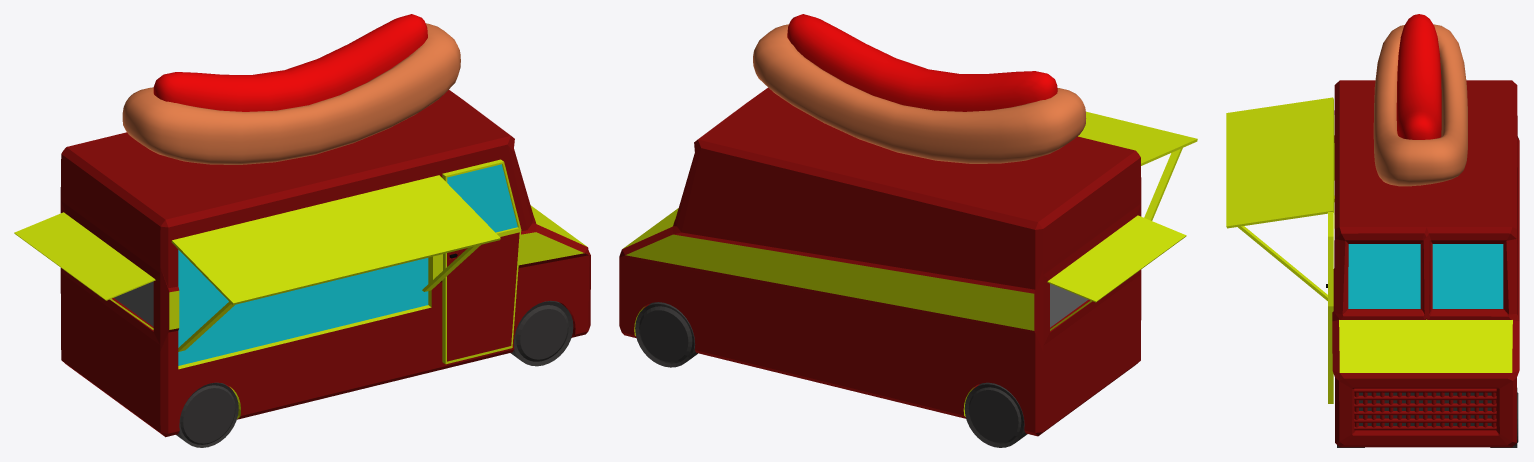
The model's file is FoodTruck_Nvl1.fbx.
3 renders of one model, left to right at view 1: azimuth 30°, elevation 25°; view 2: azimuth 150°, elevation 25°; view 3: azimuth 270°, elevation 25°, orthographic. The views are drawn at different scales.
Visible parts, largest first — view 1: FoodTruck; view 2: FoodTruck; view 3: FoodTruck.
Boxes of the visible parts, left/top/right/bottom form: FoodTruck: left=14, top=14, right=590, bottom=447; FoodTruck: left=619, top=14, right=1197, bottom=447; FoodTruck: left=1226, top=14, right=1519, bottom=447.
Bounding box in the file's own units: 3166 × 2108 × 1923.
